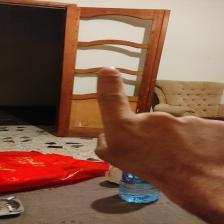three: (91, 65, 216, 182)
